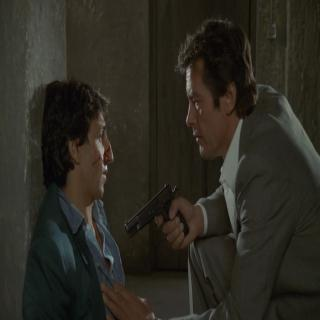gun: (124, 182, 191, 248)
